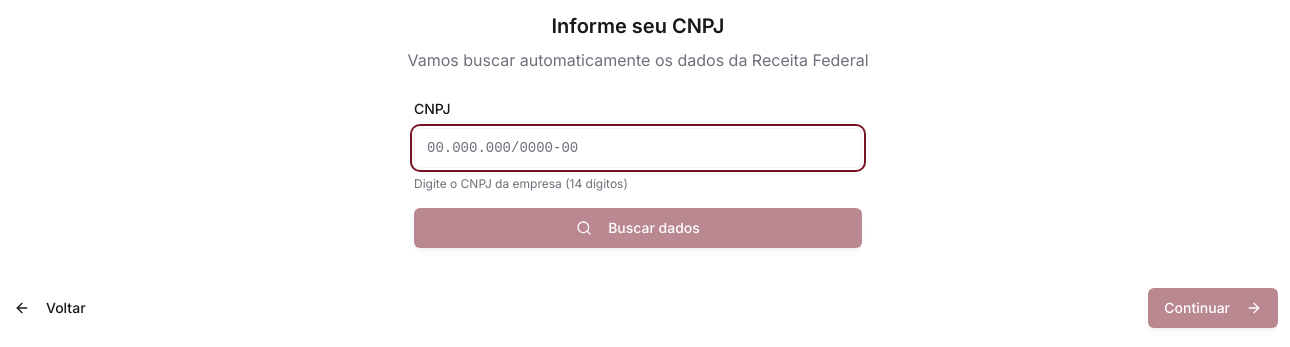
Scenario: CnpjInput › CNPJ validation › shows valid indicator for valid CNPJ
The image size is (1290, 347).
Using a valid CNPJ with correct check digits
Type "11222333000181" into the field labelled "CNPJ" at point(638, 148), box [414,128,862,168]
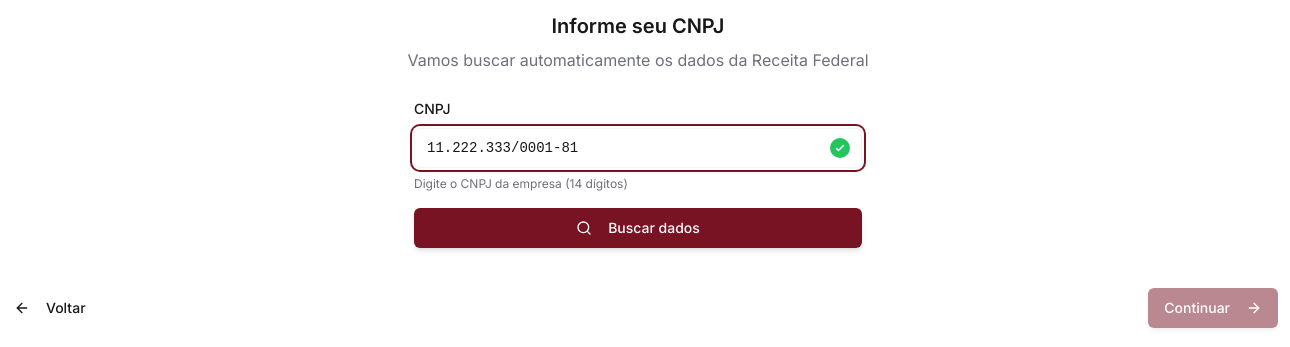
Check: the button "Buscar dados" is enabled, box [414,208,862,248]
